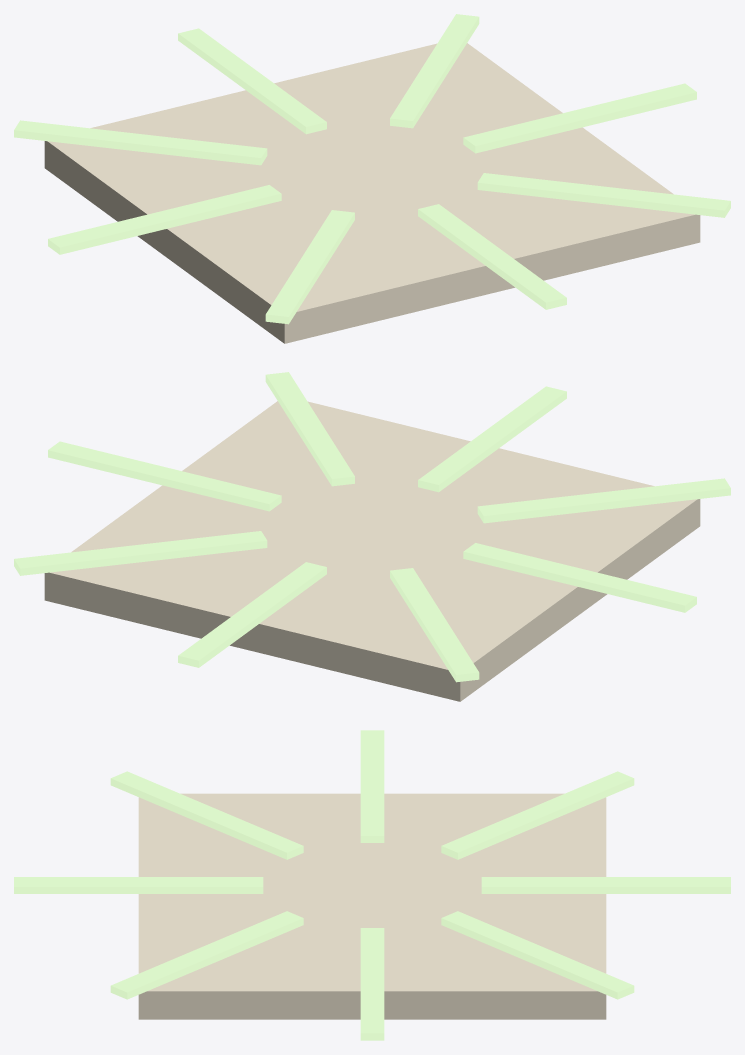
File: HarmonicTile_Square.fbx
3 views of the same model, one above another, from view 1: azimuth 30°, elevation 25°; view 2: azimuth 150°, elevation 25°; view 3: azimuth 270°, elevation 25° (orthographic). The views are drawn at different scales.
Visible parts, largest first — view 1: HarmonicTile_Square; view 2: HarmonicTile_Square; view 3: HarmonicTile_Square.
Boxes of the visible parts, x1,y1,x2,y2 form: HarmonicTile_Square: [14, 14, 730, 343]; HarmonicTile_Square: [14, 372, 730, 701]; HarmonicTile_Square: [14, 730, 730, 1040].
Size of the model in its own units: 46 by 2.75 by 46.
